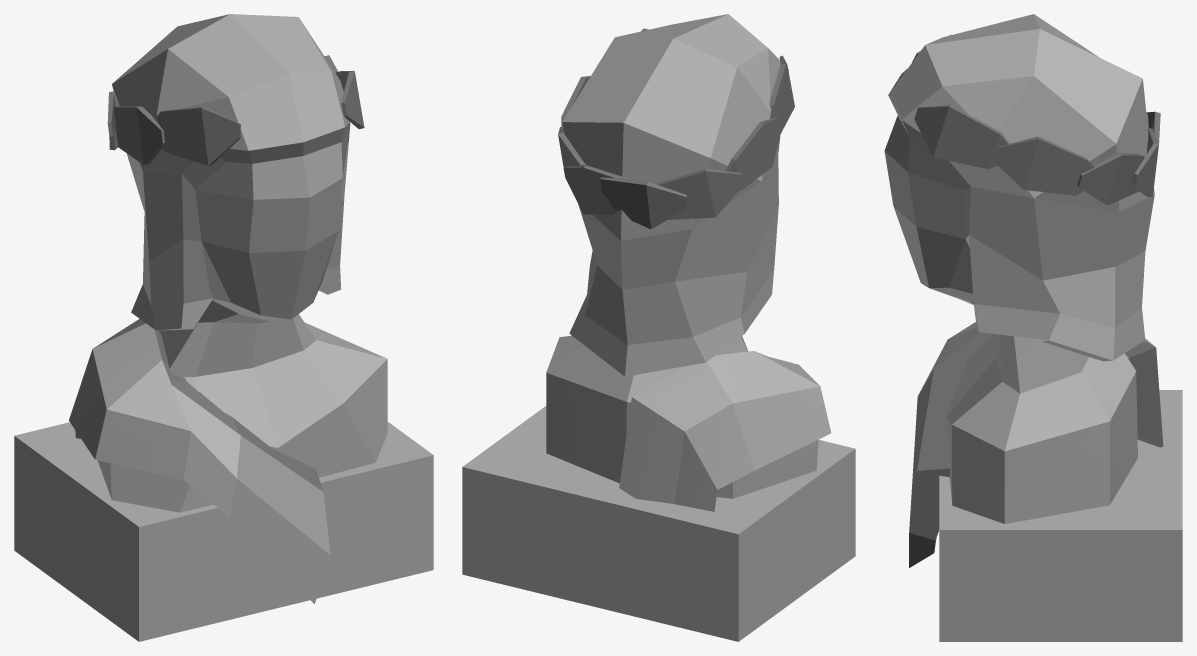
File: Bust.fbx
The picture shows the model from 3 angles, left to right: view 1: azimuth 30°, elevation 25°; view 2: azimuth 150°, elevation 25°; view 3: azimuth 270°, elevation 25°; orthographic projection. The views are drawn at different scales.
Parts seen in each view (by area): view 1: Cube.001; view 2: Cube.001; view 3: Cube.001.
Boxes of the visible parts, x1,y1,x2,y2 form: Cube.001: (14, 14, 433, 641); Cube.001: (462, 14, 855, 641); Cube.001: (884, 14, 1182, 641).
Size of the model in its own units: 83.4 by 146 by 72.72.
